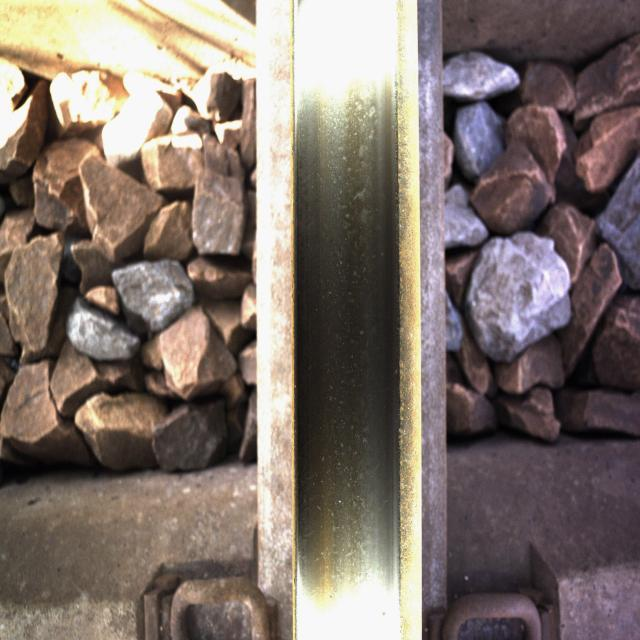normal: (306, 61, 394, 596)
